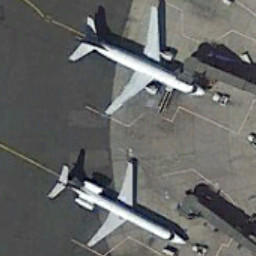Airplane: (65, 2, 212, 131), (41, 154, 192, 253)
